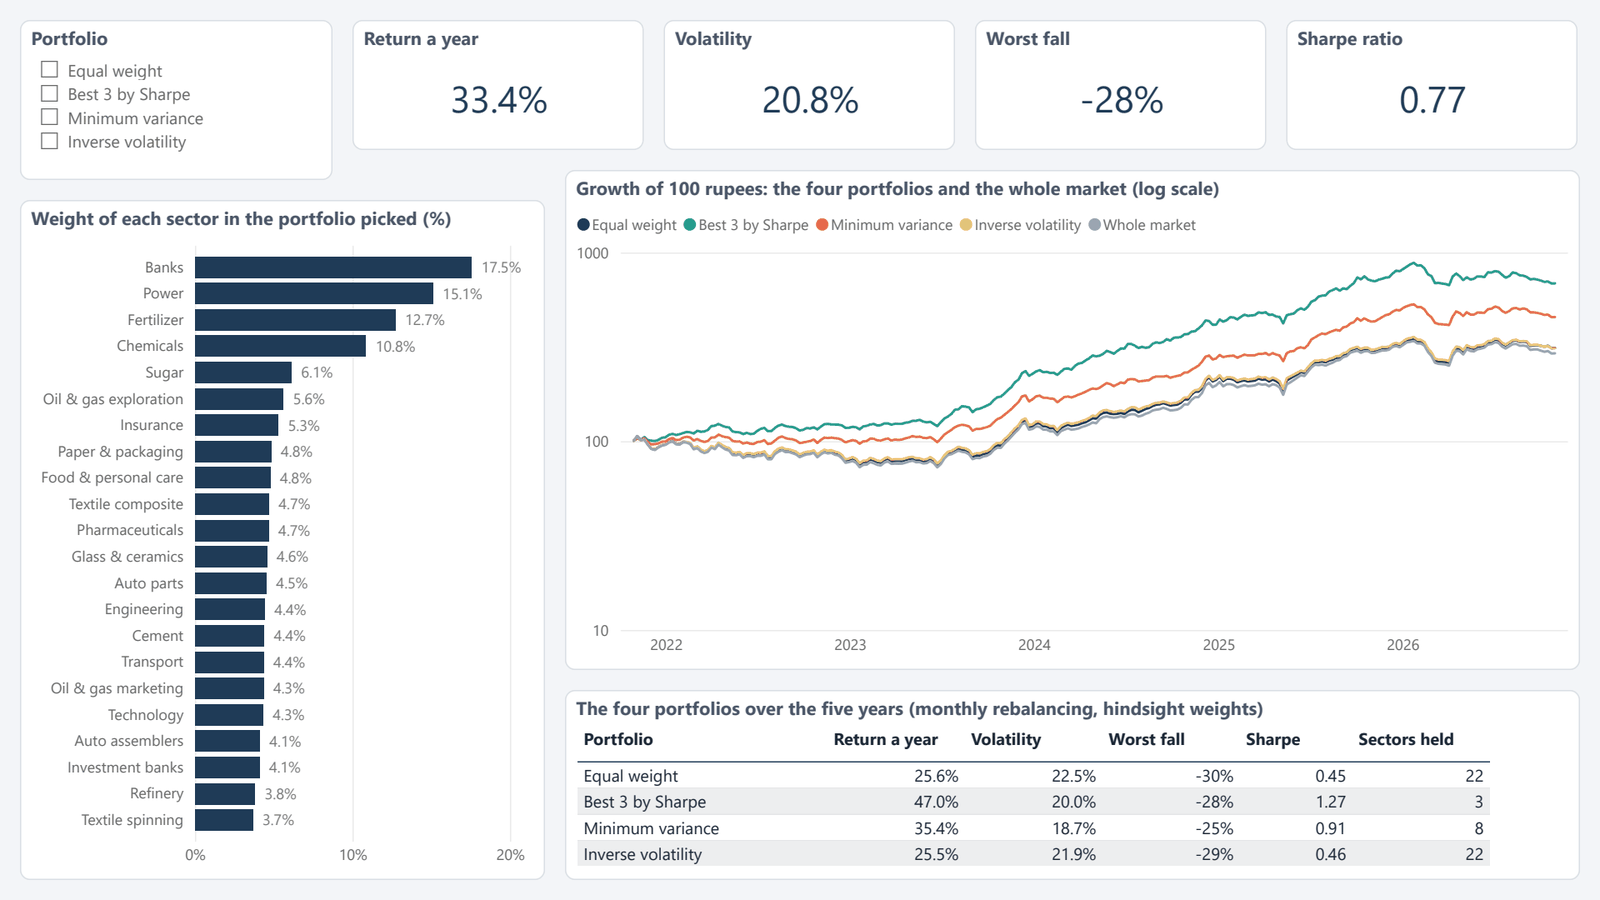

The page's visual inventory and layout, read from the dashboard file:
{"tool":"powerbi","page":{"name":"Portfolios","canvas":[1280,720],"ordinal":8},"visuals":[{"type":"slicer","title":"Portfolio","fields":{"Values":["preset_stats.preset"]},"box":[16,16,250,128],"z":0},{"type":"card","title":"Return a year","fields":{"Values":["_Measures.Preset Return a Year"]},"box":[282,16,233,104],"z":1000},{"type":"card","title":"Volatility","fields":{"Values":["_Measures.Preset Volatility"]},"box":[531,16,233,104],"z":2000},{"type":"card","title":"Worst fall","fields":{"Values":["_Measures.Preset Worst Fall"]},"box":[780,16,233,104],"z":3000},{"type":"card","title":"Sharpe ratio","fields":{"Values":["_Measures.Preset Sharpe"]},"box":[1029,16,233,104],"z":4000},{"type":"clusteredBarChart","title":"Weight of each sector in the portfolio picked (%)","fields":{"Category":["presets.short_name"],"Y":["_Measures.Preset Weight"]},"box":[16,160,420,544],"z":5000},{"type":"lineChart","title":"Growth of 100 rupees: the four portfolios and the whole market (log scale)","fields":{"Category":["preset_levels.date"],"Y":["_Measures.Preset Level"],"Series":["preset_levels.series"]},"box":[452,136,812,400],"z":6000},{"type":"tableEx","title":"The four portfolios over the five years (monthly rebalancing, hindsight weights)","fields":{"Values":["preset_stats.preset","preset_stats.cagr","preset_stats.volatility","preset_stats.max_drawdown","preset_stats.sharpe","preset_stats.sectors_held"]},"box":[452,552,812,152],"z":7000}]}

Visuals, with their boxes in screenshot pixels (x1, y1, x2, y2), scaled from the page's 1280x720 canvas onto the 1600x900 screenshot:
"Portfolio" slicer: {"x1": 20, "y1": 20, "x2": 332, "y2": 180}
"Return a year" card: {"x1": 352, "y1": 20, "x2": 644, "y2": 150}
"Volatility" card: {"x1": 664, "y1": 20, "x2": 955, "y2": 150}
"Worst fall" card: {"x1": 975, "y1": 20, "x2": 1266, "y2": 150}
"Sharpe ratio" card: {"x1": 1286, "y1": 20, "x2": 1578, "y2": 150}
"Weight of each sector in the portfolio picked (%)" clusteredBarChart: {"x1": 20, "y1": 200, "x2": 545, "y2": 880}
"Growth of 100 rupees: the four portfolios and the whole market (log scale)" lineChart: {"x1": 565, "y1": 170, "x2": 1580, "y2": 670}
"The four portfolios over the five years (monthly rebalancing, hindsight weights)" tableEx: {"x1": 565, "y1": 690, "x2": 1580, "y2": 880}
